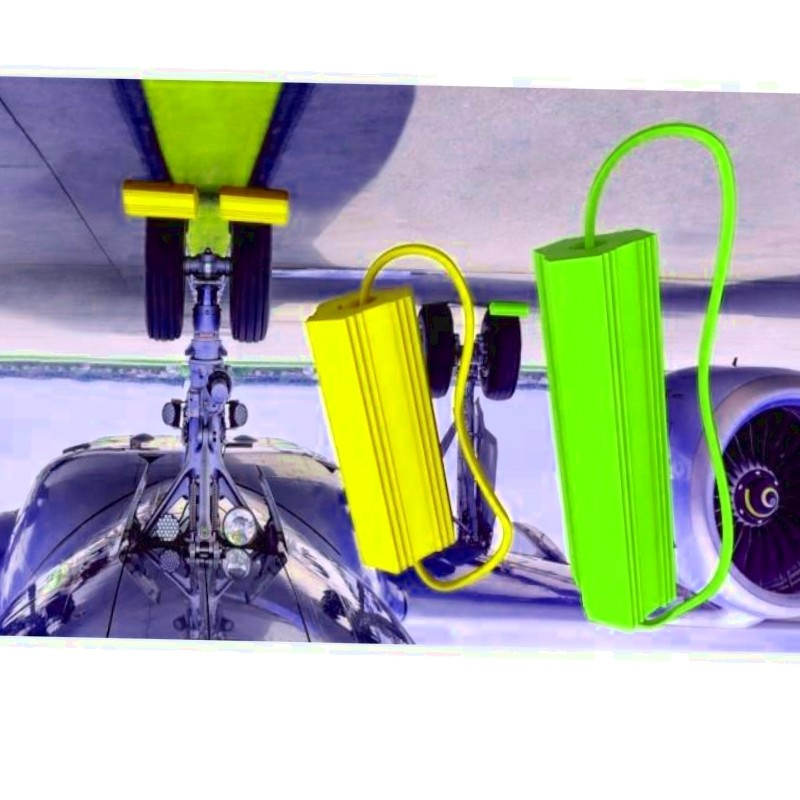chock: (526, 219, 687, 628), (295, 280, 464, 573), (118, 179, 203, 224), (215, 188, 292, 226), (487, 300, 532, 320)
wheel: (141, 217, 187, 342), (228, 221, 273, 344), (477, 309, 521, 405), (415, 305, 456, 402)
